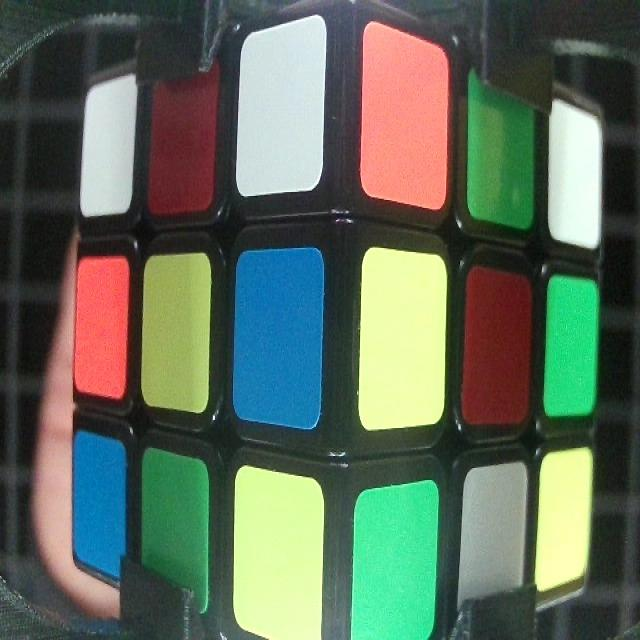b: (234, 249, 320, 423), (73, 436, 127, 587)
g: (355, 489, 435, 640), (137, 453, 210, 606), (469, 78, 535, 230), (546, 279, 599, 422)
o: (361, 24, 454, 209), (75, 264, 128, 395)
r: (149, 43, 217, 209), (465, 268, 527, 424)
w: (239, 26, 325, 192), (458, 472, 523, 604), (548, 97, 600, 246), (80, 66, 132, 214)
y: (232, 470, 332, 635), (360, 249, 446, 422), (143, 259, 212, 399), (540, 454, 596, 580)
